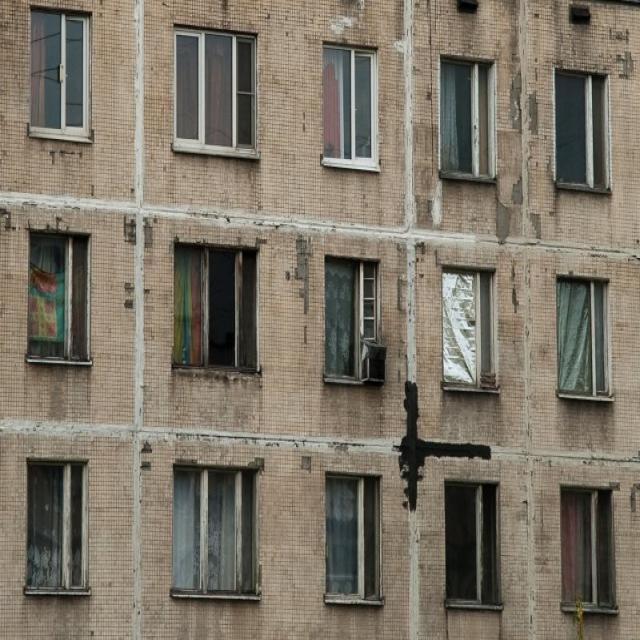Window: (173, 476, 254, 594), (180, 252, 256, 362), (180, 39, 250, 144), (31, 468, 84, 584), (33, 242, 88, 352), (562, 499, 614, 606), (328, 484, 378, 594), (444, 62, 494, 170), (34, 21, 86, 124), (329, 266, 376, 374), (322, 57, 372, 156), (558, 82, 606, 180), (447, 280, 493, 380), (561, 287, 604, 391), (478, 488, 496, 608)
